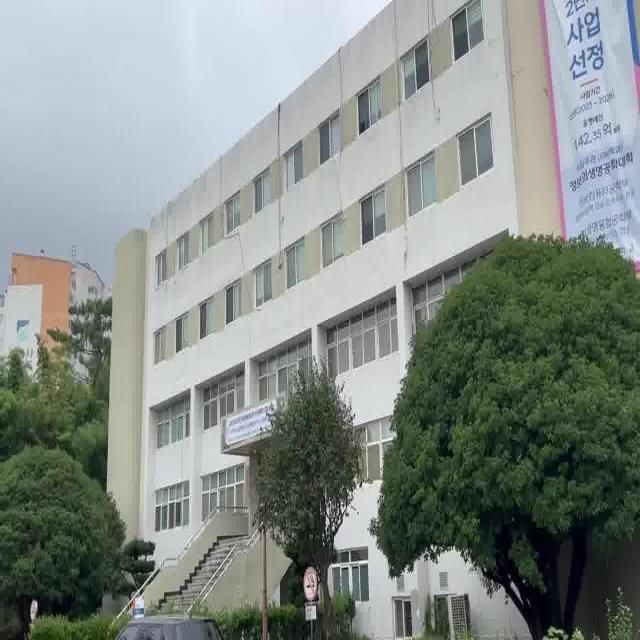building: (112, 45, 439, 386)
